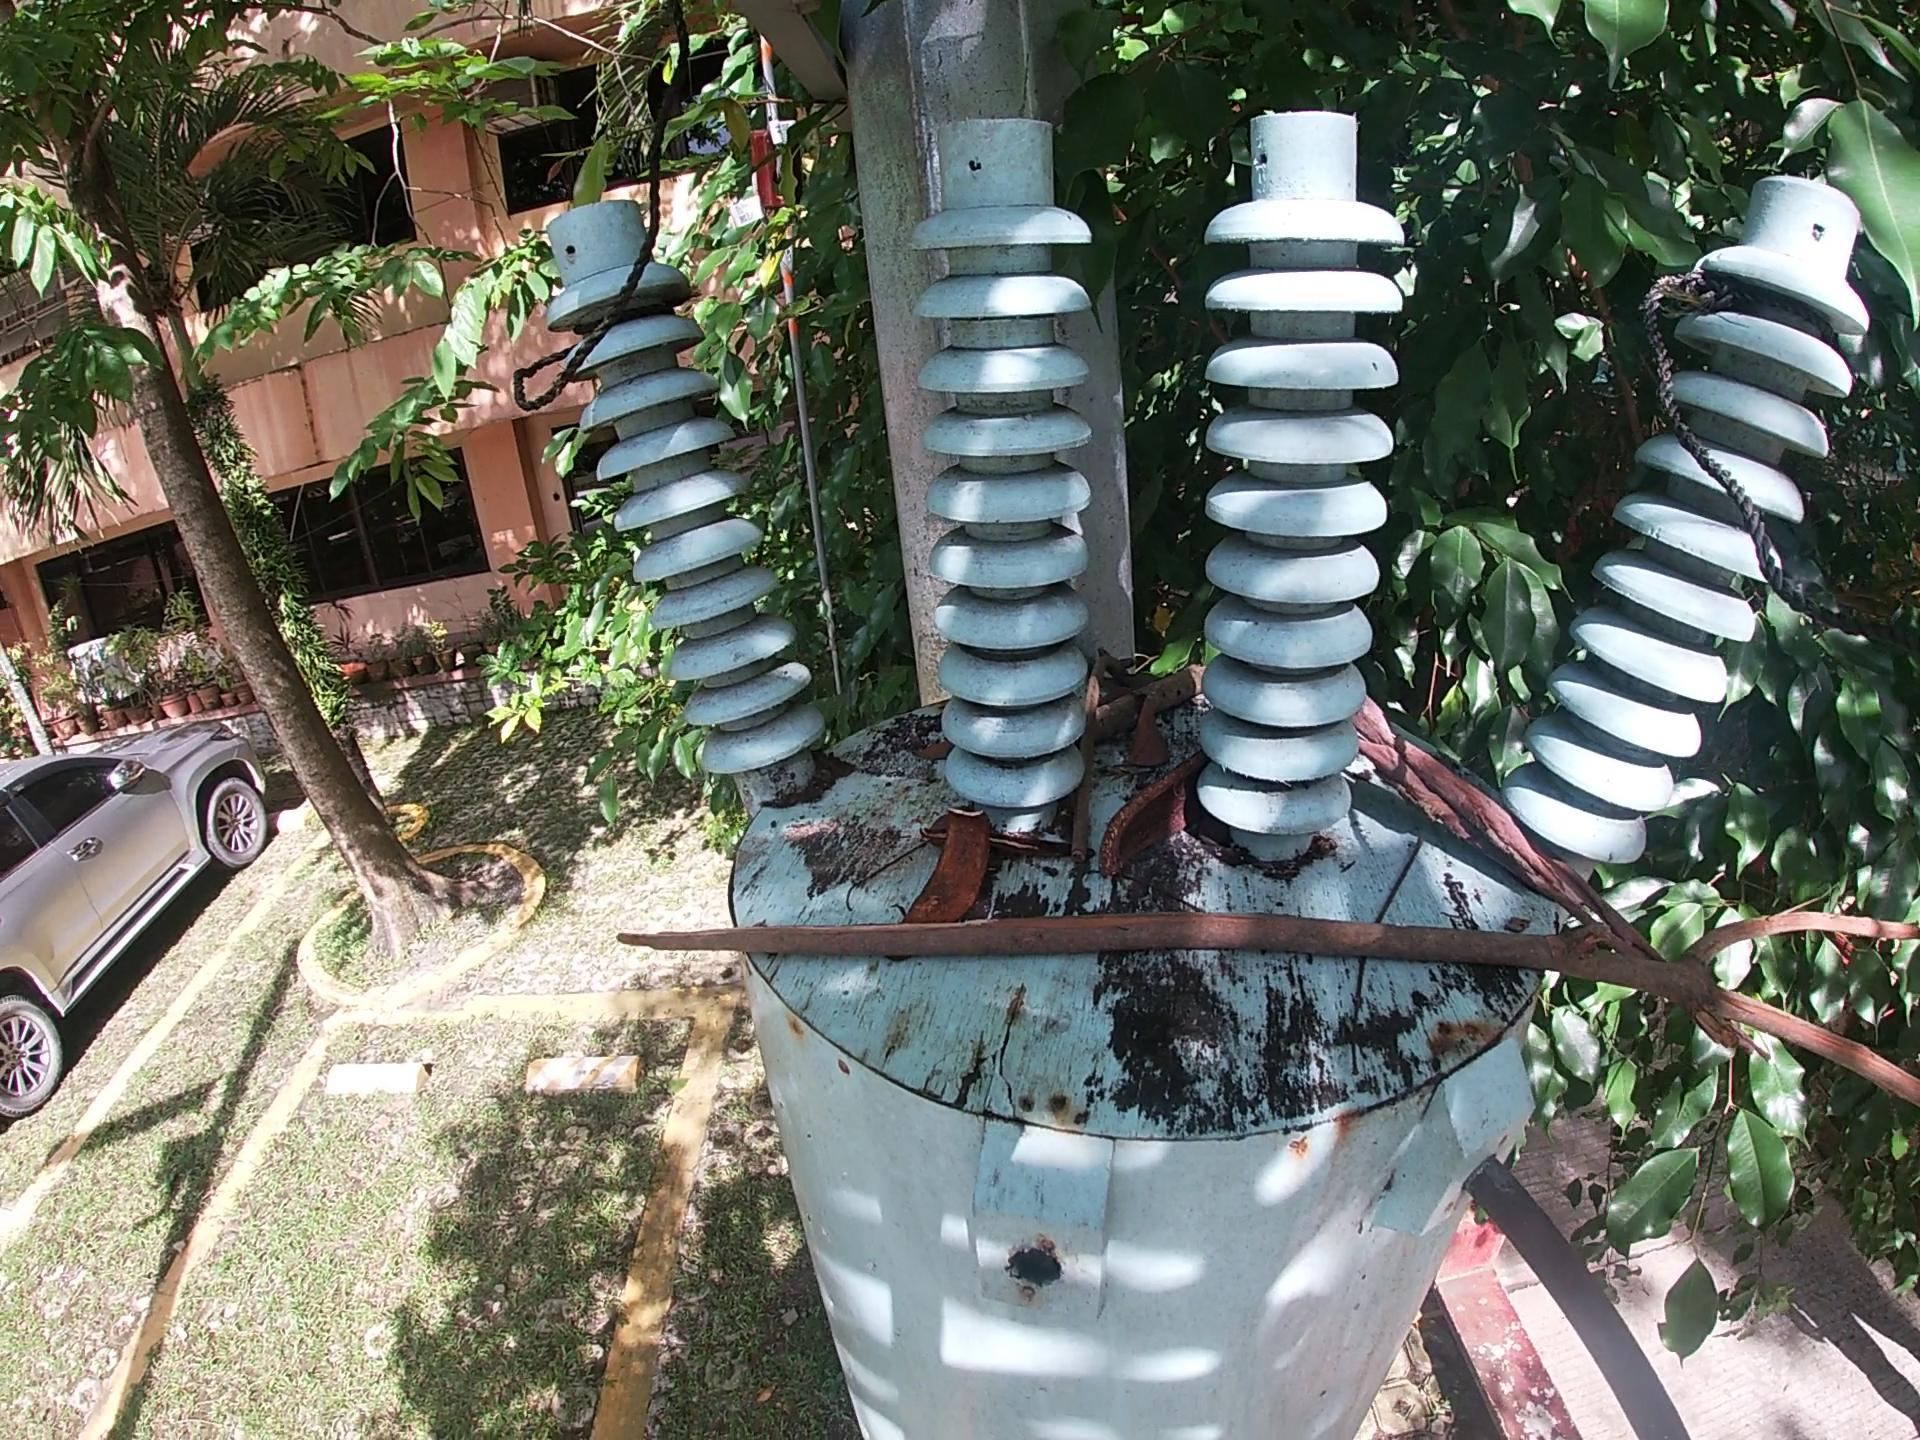leaf: (1126, 696, 1167, 790), (900, 735, 963, 764)
mahogany fruit: (906, 793, 1013, 917), (1104, 758, 1205, 883)
tree branch: (620, 895, 1918, 1156), (1367, 694, 1643, 953), (1327, 833, 1432, 1106), (1067, 641, 1113, 871), (842, 829, 924, 908), (1099, 661, 1202, 714), (999, 827, 1055, 867)
